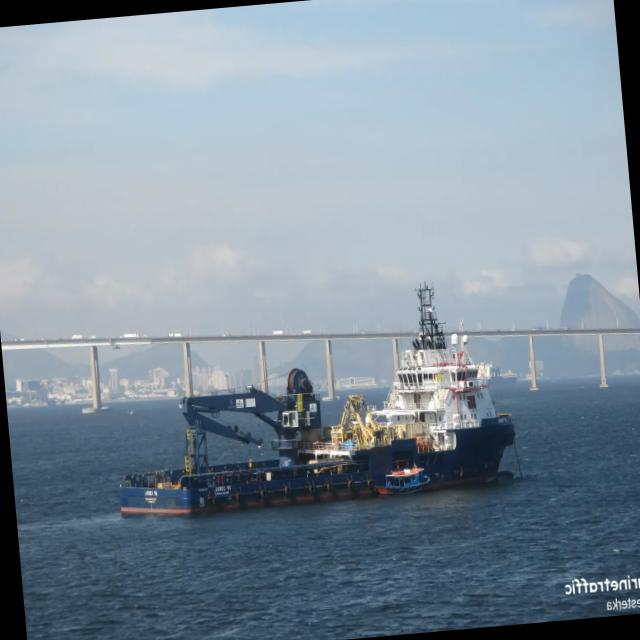Offshore: (121, 286, 514, 513)
